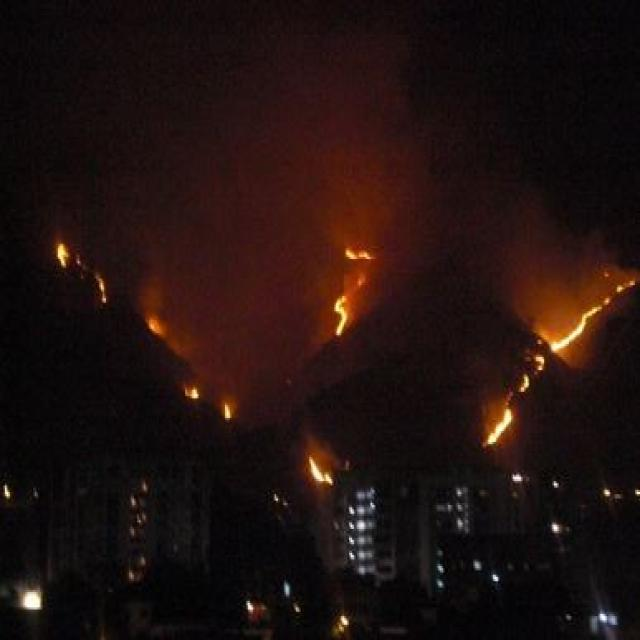Fire: (53, 236, 238, 427), (463, 248, 637, 446), (317, 222, 383, 342), (296, 440, 348, 490), (488, 400, 517, 444), (55, 240, 75, 266), (222, 406, 240, 426), (154, 316, 164, 340), (533, 352, 546, 370), (190, 386, 200, 403), (616, 279, 620, 296)
